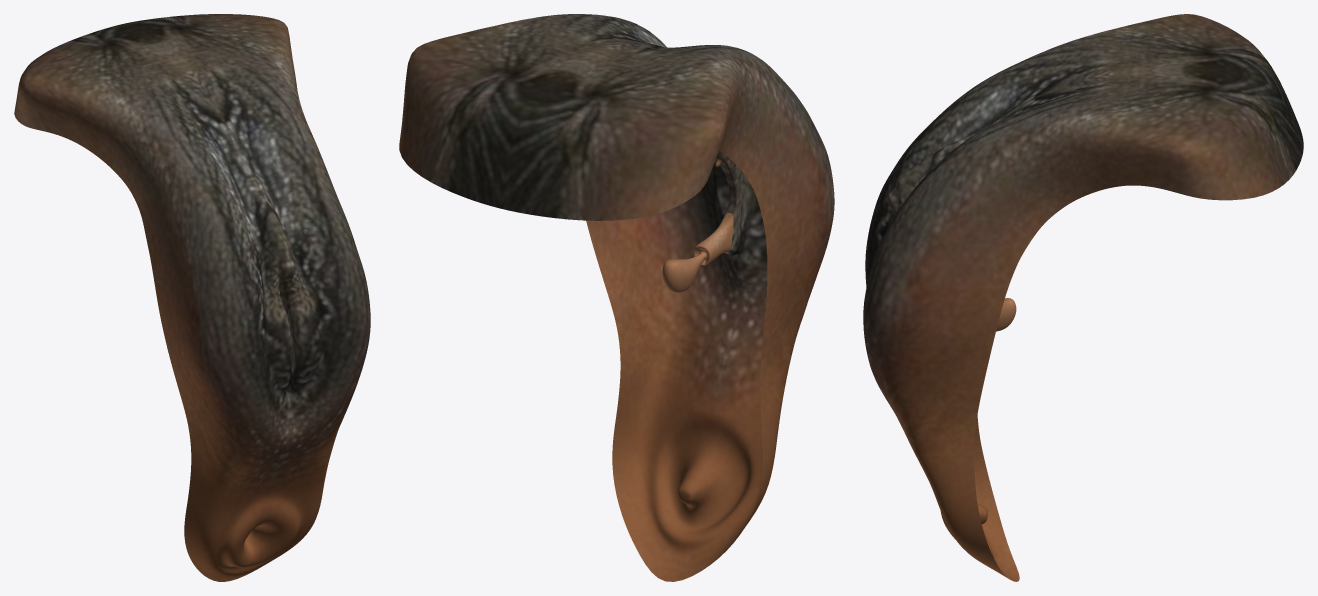
The model's file is vagina1.Fbx.
The picture shows the model from 3 angles, left to right: view 1: azimuth 30°, elevation 25°; view 2: azimuth 150°, elevation 25°; view 3: azimuth 270°, elevation 25°; orthographic projection. The views are drawn at different scales.
Visible parts, largest first — view 1: CC_Base_Pivot; view 2: CC_Base_Pivot; view 3: CC_Base_Pivot.
Boxes of the visible parts, <box> form: CC_Base_Pivot: <box>14,14,370,581</box>; CC_Base_Pivot: <box>399,14,834,581</box>; CC_Base_Pivot: <box>863,14,1303,581</box>.
Size of the model in its own units: 6.78 by 9.38 by 12.01.
Materials: 1 (1 with a texture image).
